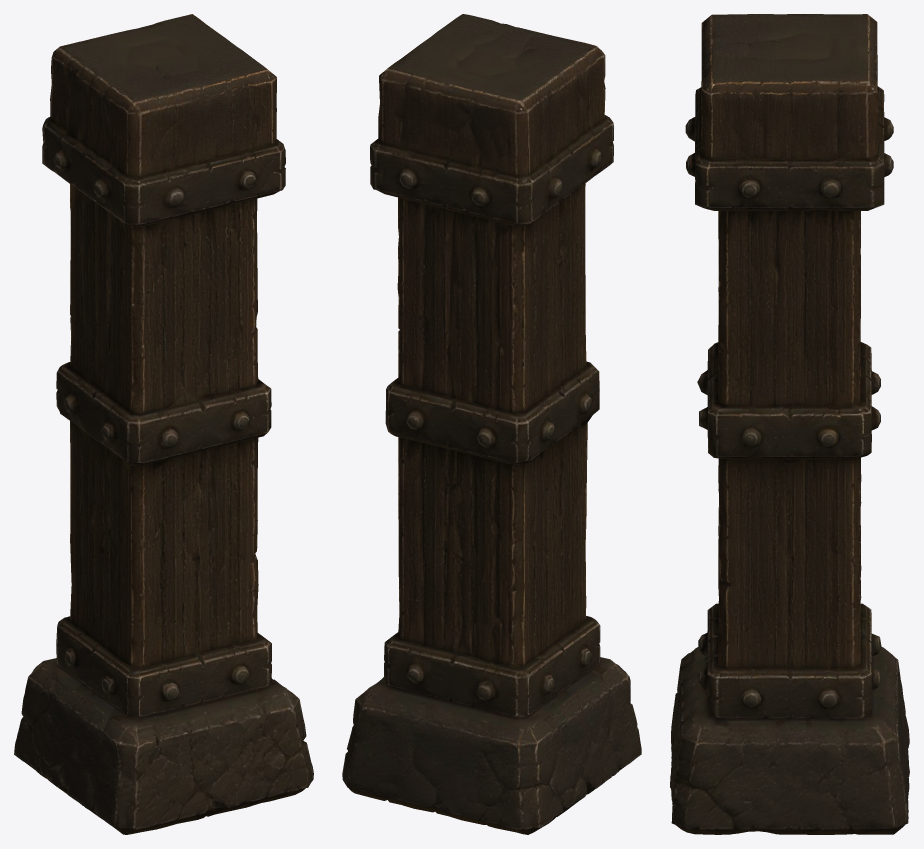
Rendered from Pillar_wood.fbx.
3 views of the same model, side by side, from view 1: azimuth 30°, elevation 25°; view 2: azimuth 150°, elevation 25°; view 3: azimuth 270°, elevation 25° (orthographic). The views are drawn at different scales.
Parts seen in each view (by area): view 1: Pillar_wood; view 2: Pillar_wood; view 3: Pillar_wood.
Boxes of the visible parts, <box> form: Pillar_wood: <box>14,14,313,834</box>; Pillar_wood: <box>342,14,641,834</box>; Pillar_wood: <box>670,14,909,834</box>.
Size of the model in its own units: 90.29 by 309 by 90.54.
1 material, 1 textured.
